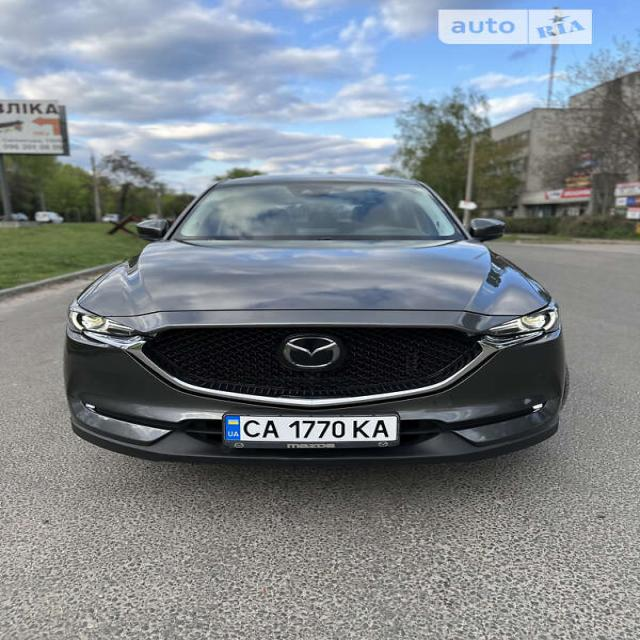plate: (222, 412, 405, 452)
